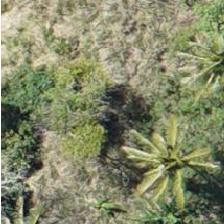Kelapa_Sawit: (126, 124, 216, 214), (167, 26, 224, 116)
